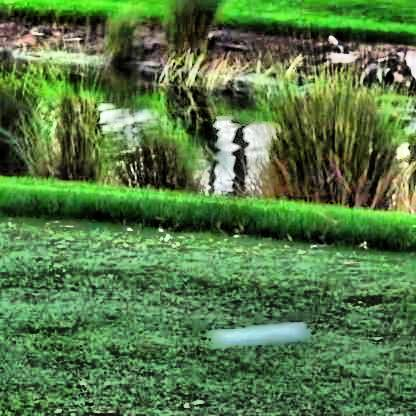golfball: (206, 314, 311, 349)
